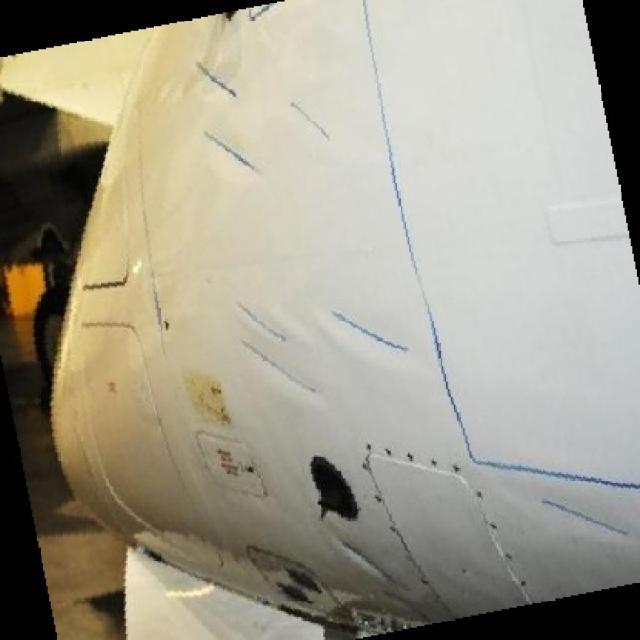dent: (235, 289, 321, 403), (529, 486, 635, 543), (324, 292, 410, 355), (332, 524, 401, 583), (204, 129, 269, 182)
